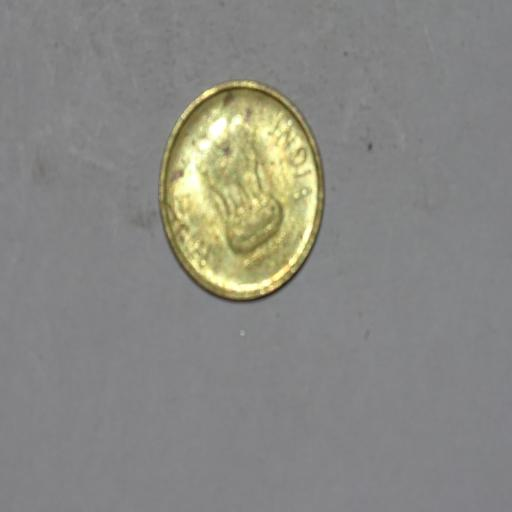rupee5: (151, 75, 326, 304)
